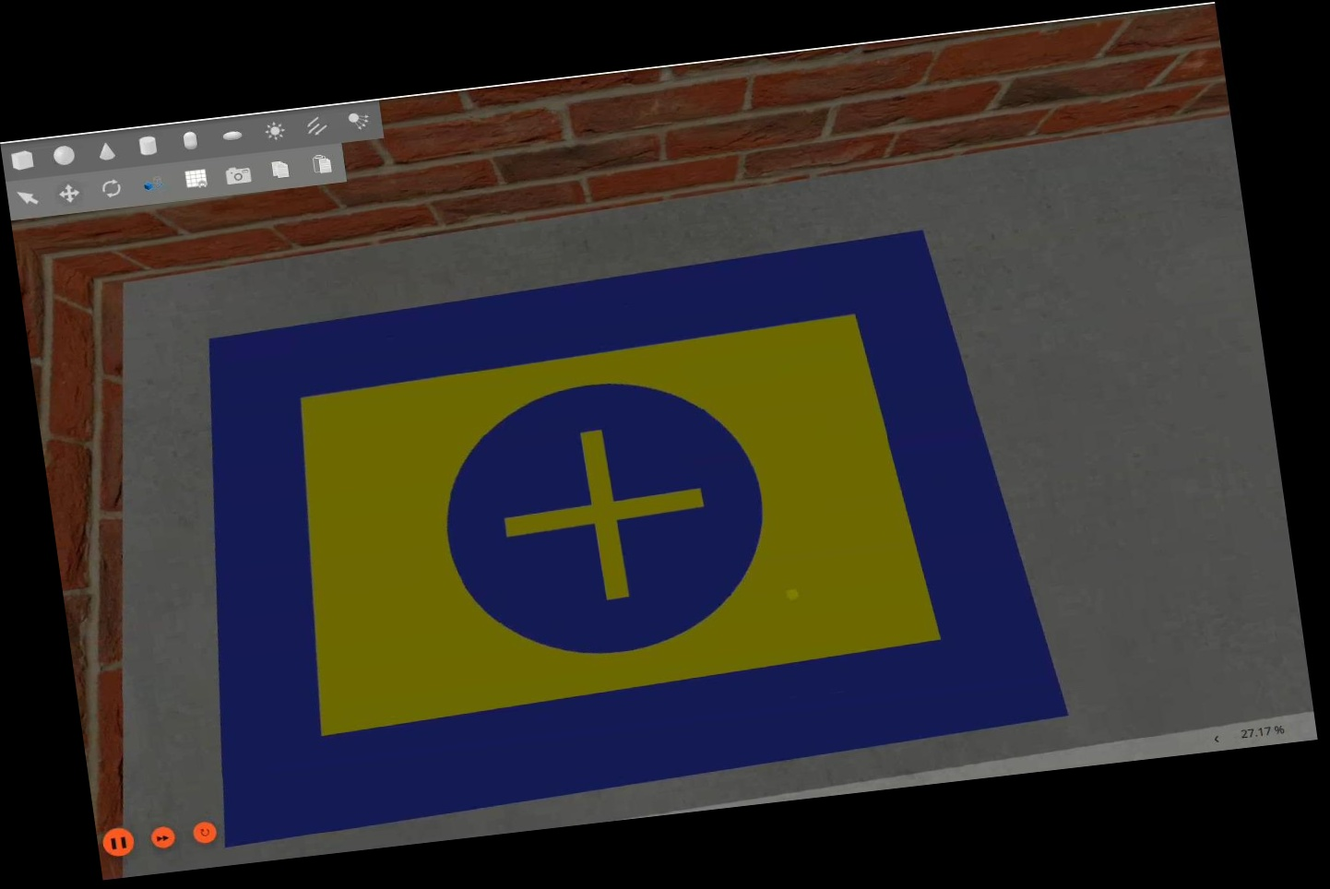large_base: (154, 221, 1077, 847)
